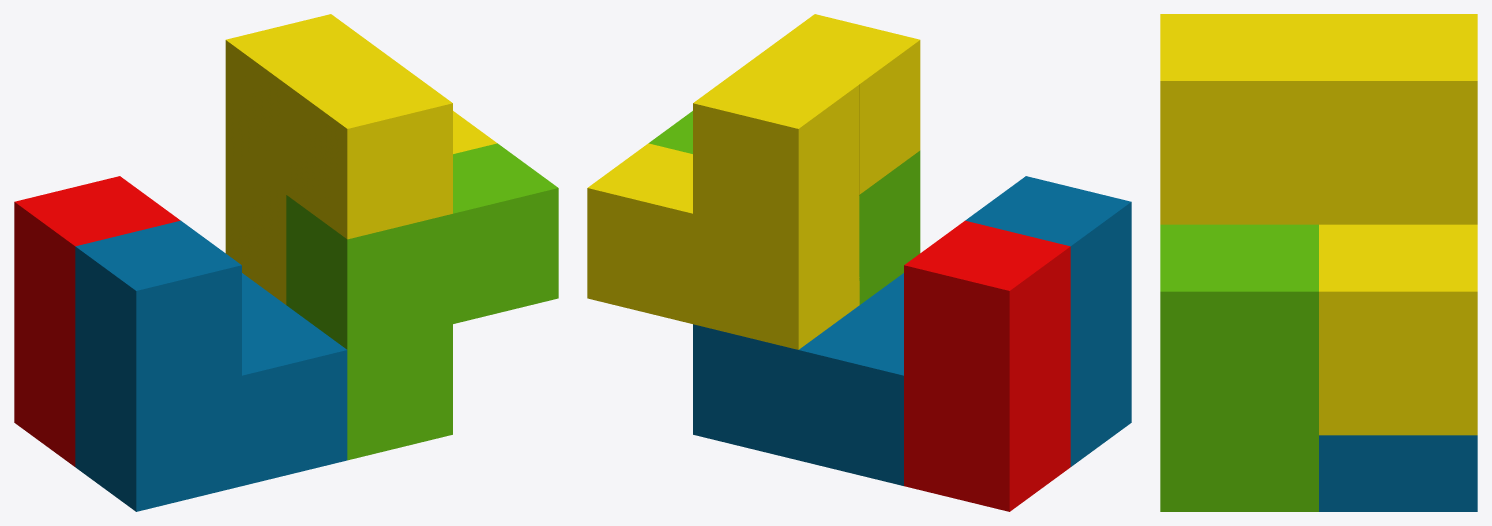
The picture shows the model from 3 angles, left to right: view 1: azimuth 30°, elevation 25°; view 2: azimuth 150°, elevation 25°; view 3: azimuth 270°, elevation 25°; orthographic projection. The views are drawn at different scales.
Visible parts, largest first — view 1: mergedBlocks(Clone); view 2: mergedBlocks(Clone); view 3: mergedBlocks(Clone).
Part boxes in pixels (box(x1,y1,x2,y2)): mergedBlocks(Clone): box(14, 14, 558, 511); mergedBlocks(Clone): box(587, 14, 1131, 511); mergedBlocks(Clone): box(1160, 14, 1477, 511).
Bounding box in the file's own units: 4 × 3 × 2.
4 materials, 4 textured.
